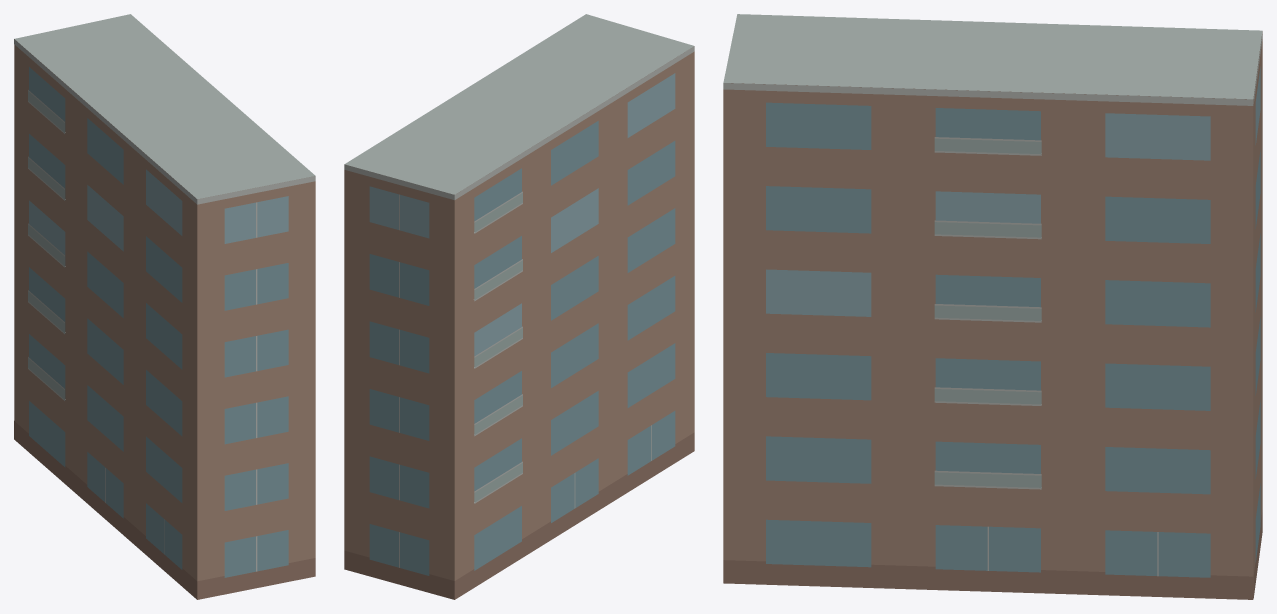
The model's file is survey-upis-32812942.glb.
3 renders of one model, left to right at view 1: azimuth 30°, elevation 25°; view 2: azimuth 150°, elevation 25°; view 3: azimuth 270°, elevation 25°, orthographic. The views are drawn at different scales.
Visible parts, largest first — view 1: survey-upis-32812942.tmp; view 2: survey-upis-32812942.tmp; view 3: survey-upis-32812942.tmp.
Boxes of the visible parts, x1,y1,x2,y2 form: survey-upis-32812942.tmp: (14, 14, 315, 599); survey-upis-32812942.tmp: (344, 14, 694, 599); survey-upis-32812942.tmp: (723, 14, 1262, 599).
Size of the model in its own units: 6.7 by 18.3 by 17.88.
